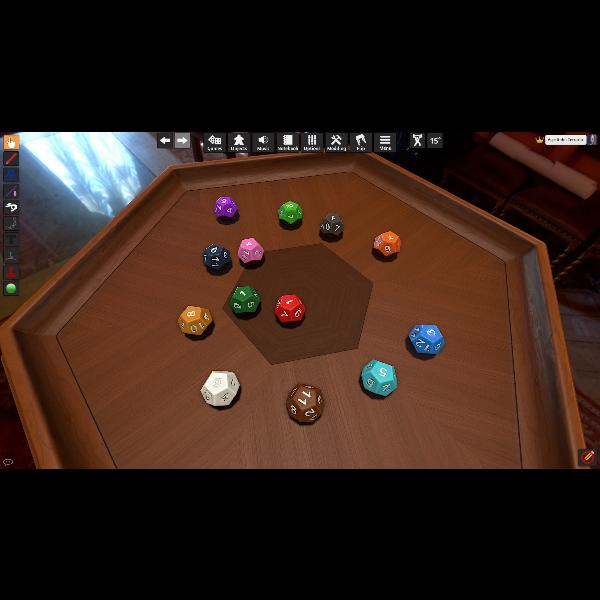d12: (285, 383, 323, 423), (200, 367, 236, 403), (361, 359, 395, 395), (179, 305, 212, 335), (412, 324, 444, 353), (230, 286, 260, 314), (274, 294, 304, 322), (203, 243, 231, 271), (371, 230, 397, 256), (237, 238, 263, 264), (214, 195, 238, 219), (278, 201, 302, 225), (320, 212, 342, 236)
